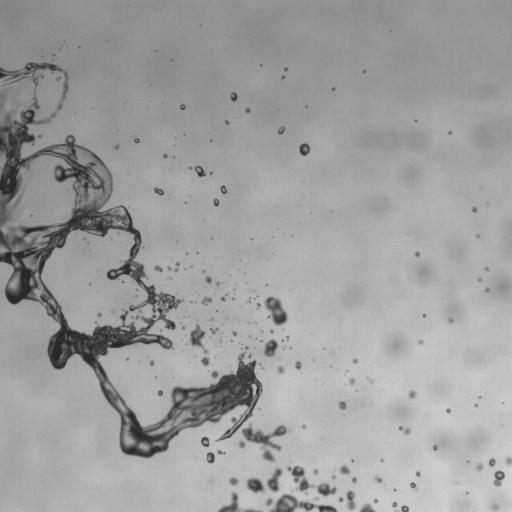droplet: (265, 465, 338, 511), (246, 467, 282, 493), (256, 296, 287, 326), (263, 339, 278, 357), (493, 470, 505, 486), (299, 143, 310, 155), (194, 166, 205, 177), (398, 426, 411, 435), (339, 465, 350, 474), (210, 327, 221, 335), (206, 452, 214, 463), (201, 436, 209, 446), (201, 297, 212, 304), (220, 185, 228, 194), (407, 390, 416, 398), (229, 477, 238, 485), (504, 456, 511, 466), (338, 401, 346, 409), (230, 92, 237, 101), (154, 188, 163, 195), (476, 462, 483, 471), (491, 502, 498, 511), (277, 366, 284, 374), (488, 458, 495, 466), (374, 475, 382, 482), (410, 482, 417, 490), (277, 127, 284, 134), (213, 198, 219, 206), (154, 265, 162, 271), (295, 361, 301, 369), (205, 276, 211, 283), (349, 378, 355, 384), (157, 390, 163, 396), (134, 137, 139, 143), (414, 251, 420, 256), (352, 358, 358, 363), (367, 378, 373, 383), (313, 468, 318, 474), (180, 104, 185, 109), (114, 144, 119, 149), (472, 207, 477, 212), (484, 287, 489, 292), (448, 318, 453, 323), (149, 360, 154, 365), (352, 477, 357, 482), (215, 282, 221, 286), (217, 450, 223, 454), (245, 108, 250, 112), (418, 340, 423, 344), (446, 408, 450, 413), (433, 445, 437, 450), (416, 471, 420, 476), (338, 497, 343, 501), (374, 498, 378, 503), (225, 120, 229, 124), (167, 266, 171, 270), (247, 298, 251, 302), (232, 331, 236, 335), (284, 67, 287, 71), (485, 267, 488, 271), (477, 278, 481, 281), (97, 313, 101, 316), (285, 337, 289, 340), (302, 424, 305, 428), (332, 475, 335, 479), (282, 75, 285, 78), (112, 310, 115, 313), (210, 317, 213, 320), (248, 354, 251, 357), (474, 404, 477, 407), (449, 131, 451, 134), (164, 154, 166, 157), (189, 166, 191, 169), (476, 235, 479, 237), (202, 270, 205, 272), (423, 314, 425, 317), (270, 330, 273, 332), (351, 459, 353, 462), (380, 459, 383, 461), (332, 88, 334, 90), (169, 277, 171, 279), (182, 326, 184, 328), (126, 358, 128, 360)
ligament: (0, 67, 288, 462), (188, 324, 209, 366), (217, 492, 262, 511), (345, 490, 356, 511), (359, 502, 376, 511), (392, 502, 409, 511), (174, 262, 179, 272), (221, 294, 226, 301)
